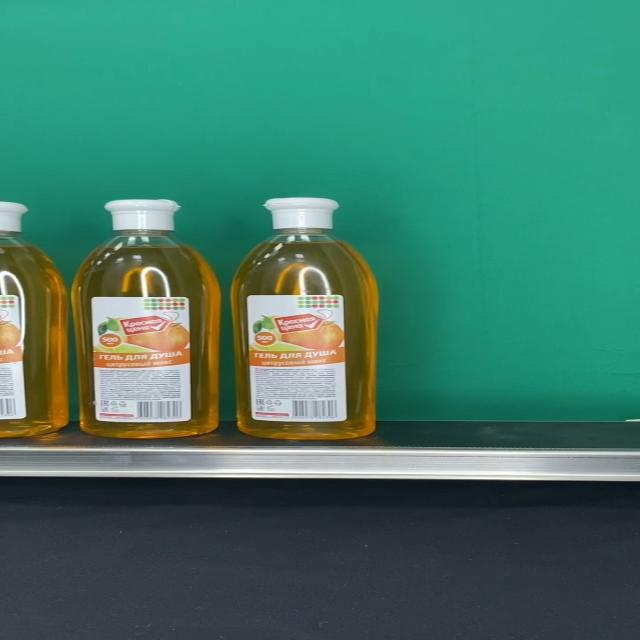Bottle: (72, 199, 222, 439), (232, 196, 379, 439)
Cap: (264, 197, 340, 230), (102, 199, 180, 231)
